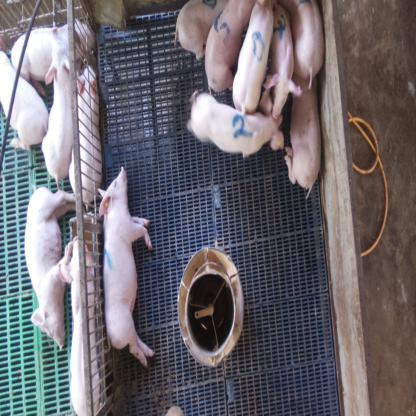2: (231, 114, 254, 144)
5: (214, 9, 230, 42)
7: (274, 13, 287, 40)
N-A: (253, 31, 265, 64)
